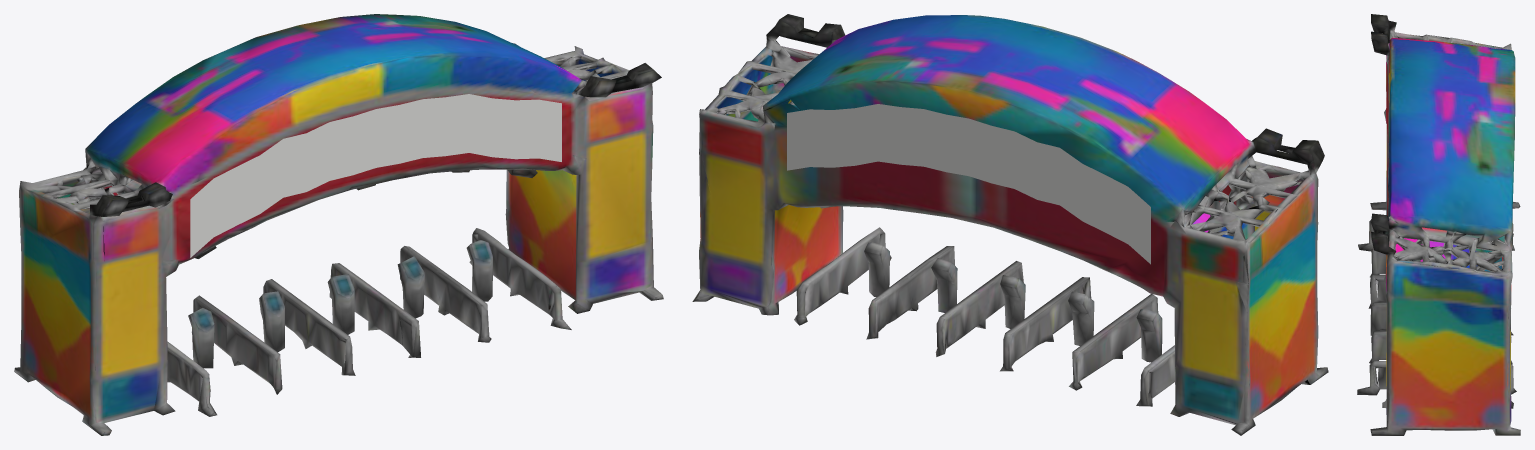
File: fest_entry_gate.glb
3 renders of one model, left to right at view 1: azimuth 30°, elevation 25°; view 2: azimuth 150°, elevation 25°; view 3: azimuth 270°, elevation 25°, orthographic. The views are drawn at different scales.
Parts seen in each view (by area): view 1: fest_entry_gate, sign_panel; view 2: fest_entry_gate, back_sign_panel; view 3: fest_entry_gate.
Boxes of the visible parts, bbox=[...] form: fest_entry_gate: bbox=[14, 14, 663, 435]; sign_panel: bbox=[190, 94, 561, 257]; fest_entry_gate: bbox=[692, 14, 1328, 435]; back_sign_panel: bbox=[787, 104, 1150, 264]; fest_entry_gate: bbox=[1357, 14, 1520, 435].
Bounding box in the file's own units: 20 × 10 × 6.
3 materials, 1 textured.
